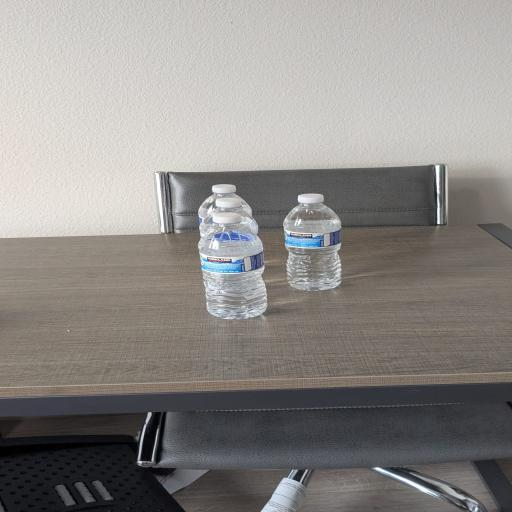waterbottle: (199, 213, 266, 318), (284, 194, 341, 290), (200, 197, 258, 236), (199, 184, 251, 224)
